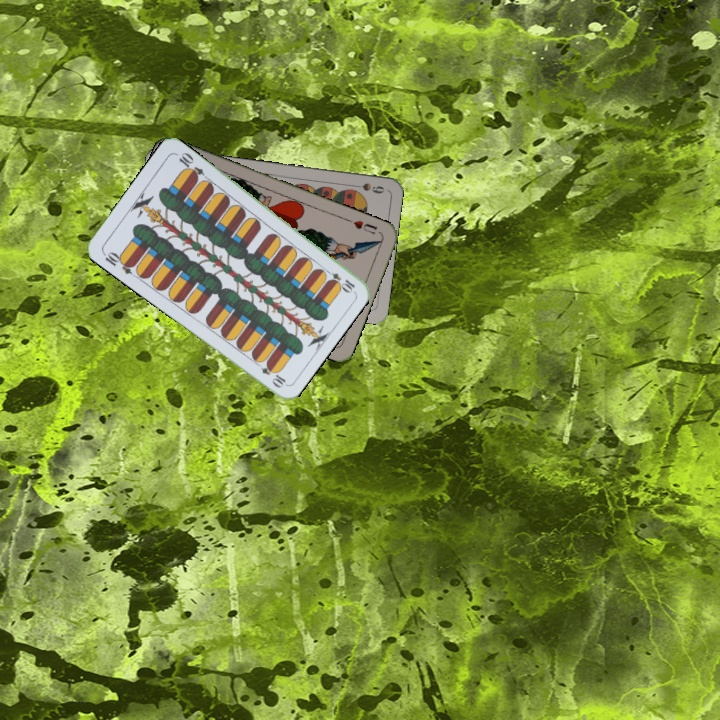E10: (99, 247, 137, 277), (320, 265, 357, 294)
HU: (344, 215, 380, 237)
S9: (346, 179, 387, 196)
